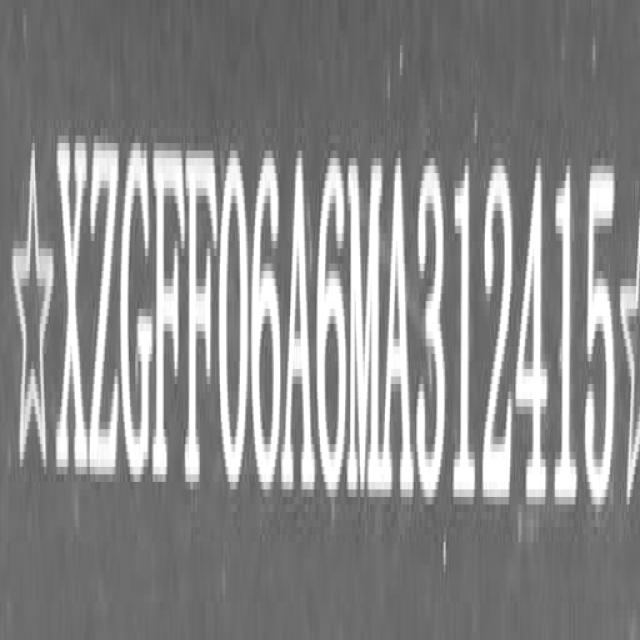0: (219, 142, 250, 499)
1: (453, 147, 478, 518), (556, 154, 580, 519)
2: (482, 146, 515, 516)
3: (418, 153, 449, 514)
4: (517, 153, 551, 520)
5: (588, 153, 620, 516)
6: (316, 147, 350, 507), (252, 142, 284, 501)
A: (384, 146, 416, 507), (286, 147, 315, 508)
F: (156, 129, 186, 495), (190, 135, 220, 497)
G: (123, 130, 155, 494)
M: (350, 147, 382, 508)
X: (56, 126, 88, 493)
Z: (90, 131, 120, 494)
